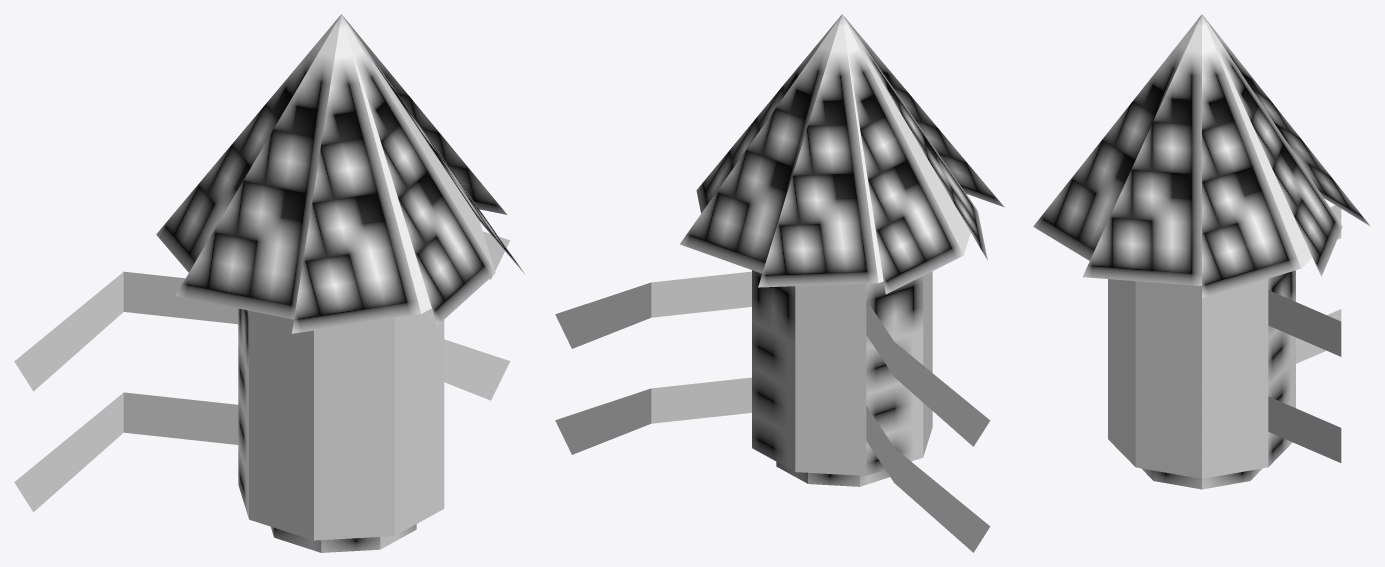
File: drill.fbx
3 views of the same model, side by side, from view 1: azimuth 30°, elevation 25°; view 2: azimuth 150°, elevation 25°; view 3: azimuth 270°, elevation 25° (orthographic). The views are drawn at different scales.
Visible parts, largest first — view 1: drill_head, drill_body, drill_left_legs, drill_right_legs; view 2: drill_head, drill_body, drill_right_legs, drill_left_legs; view 3: drill_head, drill_body, drill_right_legs, drill_left_legs.
Boxes of the visible parts, x1,y1,x2,y2 form: drill_head: (156,14,525,333); drill_body: (238,308,444,552); drill_left_legs: (14,271,238,511); drill_right_legs: (444,231,510,400); drill_head: (680,14,1004,294); drill_body: (752,270,932,486); drill_right_legs: (555,271,751,454); drill_left_legs: (866,300,990,552); drill_head: (1033,14,1370,297); drill_body: (1108,270,1295,489); drill_right_legs: (1268,290,1341,462); drill_left_legs: (1296,205,1341,363).
Bounding box in the file's own units: 1.44 × 2.1 × 2.15.
